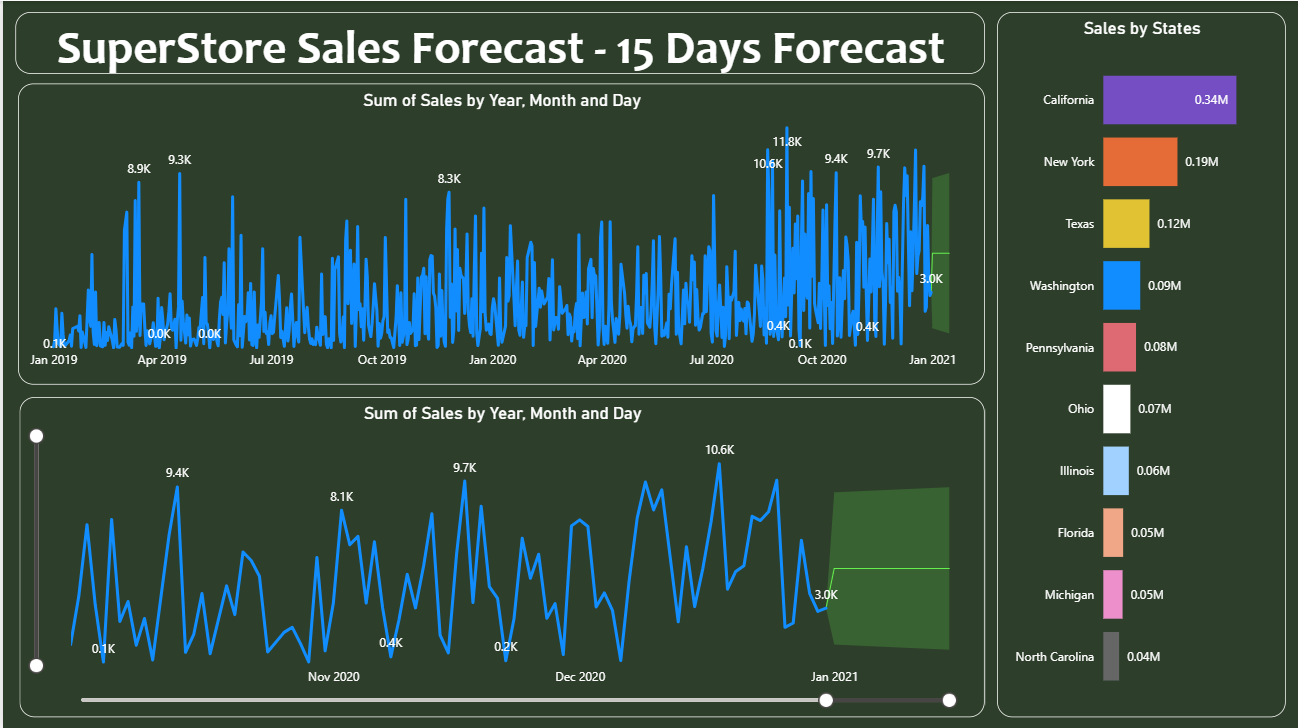

This screenshot's page, from the dashboard's own definition file:
{"tool":"powerbi","page":{"name":"Page 2","canvas":[1280,720],"ordinal":1},"visuals":[{"type":"lineChart","fields":{"Y":["Sum(Sheet1.Sales)"],"Category":["Sheet1.Order Date.Variation.Date Hierarchy.Year","Sheet1.Order Date.Variation.Date Hierarchy.Month","Sheet1.Order Date.Variation.Date Hierarchy.Day"]},"box":[14.9,81.5,954.9,297.5],"z":0},{"type":"lineChart","fields":{"Y":["Sum(Sheet1.Sales)"],"Category":["Sheet1.Order Date.Variation.Date Hierarchy.Year","Sheet1.Order Date.Variation.Date Hierarchy.Month","Sheet1.Order Date.Variation.Date Hierarchy.Day"]},"box":[16.3,391.2,953.5,316.5],"z":1000},{"type":"clusteredBarChart","title":"Sales by States","fields":{"Category":["Sheet1.State"],"Y":["Sum(Sheet1.Sales)"]},"box":[982,10.9,285.2,696.8],"z":2000},{"type":"textbox","title":"SuperStore Sales Forecast - 15 Days Forecast","box":[12.2,10.9,957.6,61.1],"z":3000}]}

Visuals, with their boxes in screenshot pixels (x1, y1, x2, y2), scaled from the page's 1280x720 canvas onto the 1298x728 screenshot:
lineChart - Sum(Sheet1.Sales) x Sheet1.Order Date.Variation.Date Hierarchy.Year: <box>15,82,983,383</box>
lineChart - Sum(Sheet1.Sales) x Sheet1.Order Date.Variation.Date Hierarchy.Year: <box>17,396,983,716</box>
"Sales by States" clusteredBarChart: <box>996,11,1285,716</box>
"SuperStore Sales Forecast - 15 Days Forecast" textbox: <box>12,11,983,73</box>
